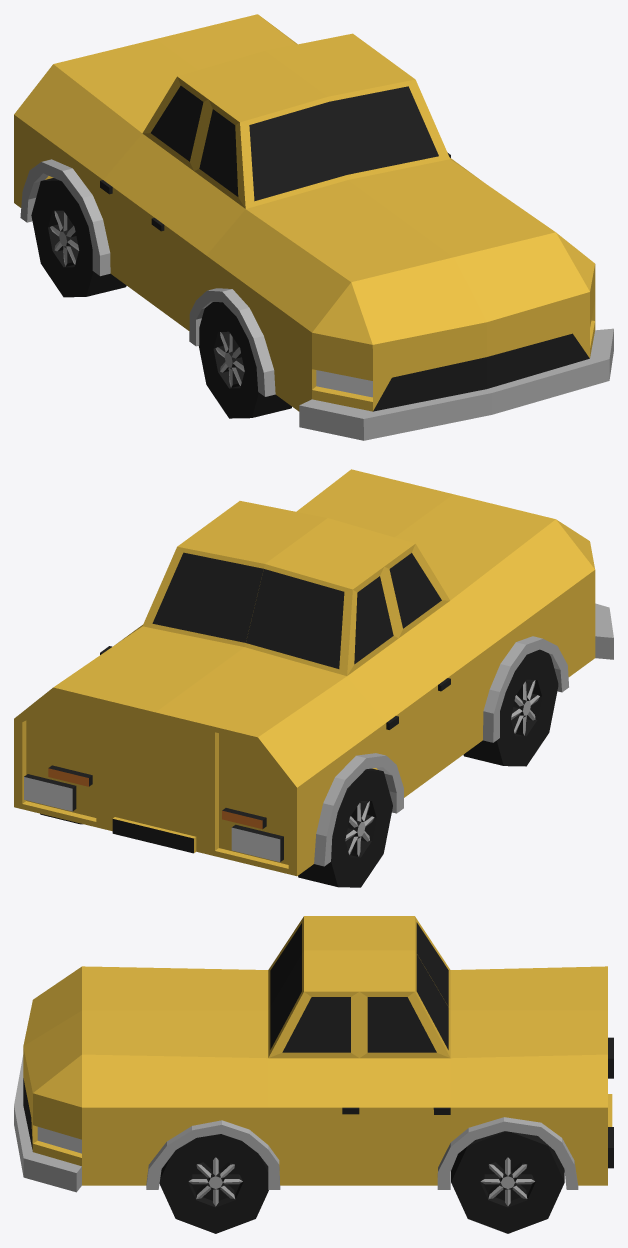
The model's file is carModel.fbx.
3 renders of one model, top to bottom at view 1: azimuth 30°, elevation 25°; view 2: azimuth 150°, elevation 25°; view 3: azimuth 270°, elevation 25°, orthographic. The views are drawn at different scales.
Parts seen in each view (by area): view 1: Car, Wheels, Wheels.001; view 2: Car, Wheels, Wheels.001; view 3: Car, Wheels, Wheels.001.
Boxes of the visible parts, left/top/right/bottom form: Car: left=14, top=14, right=613, bottom=440; Wheels: left=31, top=178, right=126, bottom=297; Wheels.001: left=199, top=302, right=291, bottom=418; Car: left=14, top=469, right=613, bottom=876; Wheels: left=40, top=768, right=392, bottom=887; Wheels.001: left=463, top=649, right=558, bottom=766; Car: left=14, top=916, right=613, bottom=1192; Wheels: left=451, top=1131, right=564, bottom=1233; Wheels.001: left=159, top=1134, right=268, bottom=1233.
Size of the model in its own units: 924 by 494 by 373.
